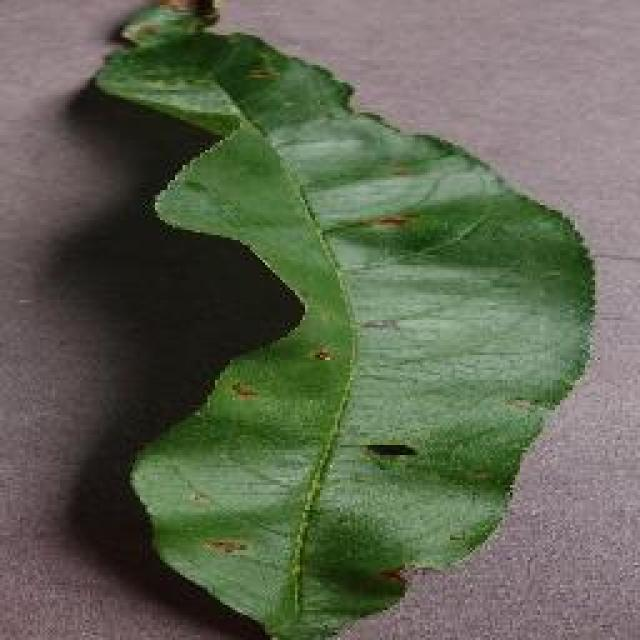Peach_Bacterial_Spot: (195, 30, 475, 583)
